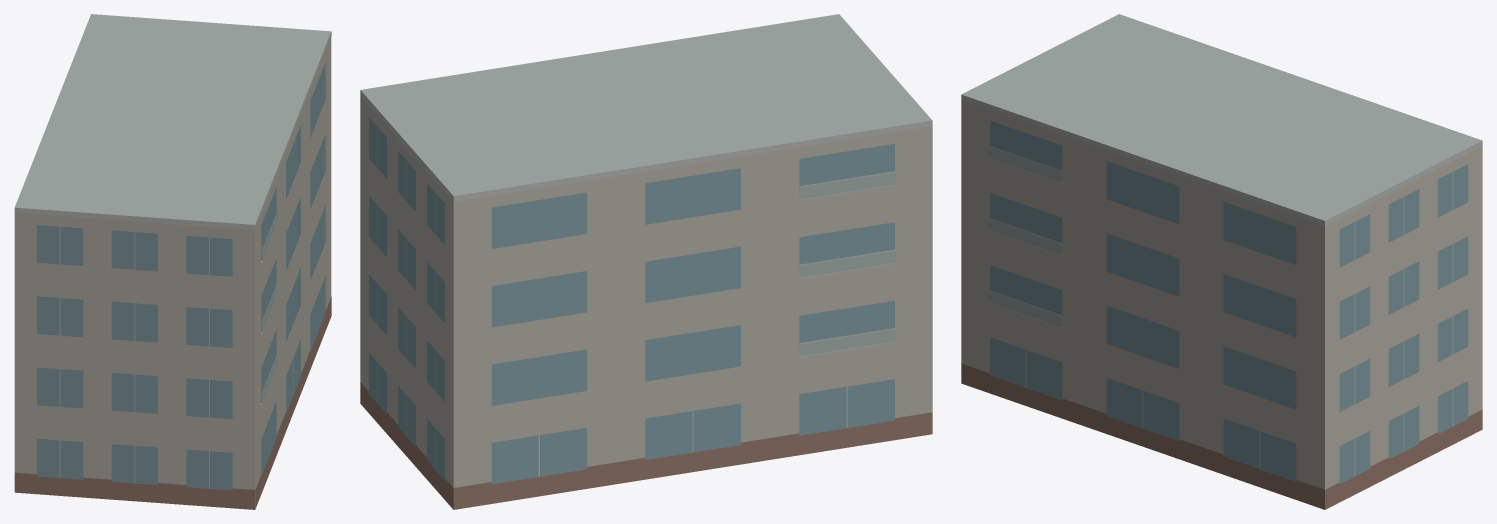
Rendered from survey-upis-32965524.glb.
3 views of the same model, side by side, from view 1: azimuth 30°, elevation 25°; view 2: azimuth 150°, elevation 25°; view 3: azimuth 270°, elevation 25° (orthographic). The views are drawn at different scales.
Visible parts, largest first — view 1: survey-upis-32965524.tmp; view 2: survey-upis-32965524.tmp; view 3: survey-upis-32965524.tmp.
Boxes of the visible parts, <box> form: survey-upis-32965524.tmp: <box>14,14,331,509</box>; survey-upis-32965524.tmp: <box>360,14,932,509</box>; survey-upis-32965524.tmp: <box>961,14,1482,509</box>.
Bounding box in the file's own units: 20.48 × 13.33 × 21.81.
